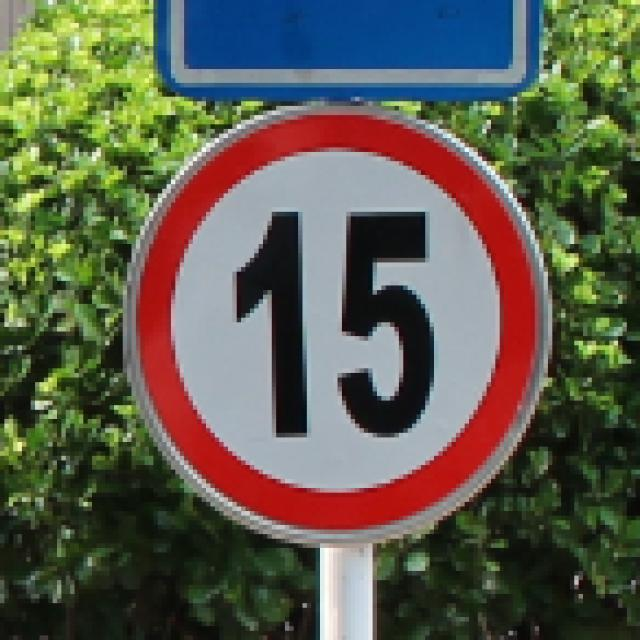Speed: (106, 102, 574, 558)
